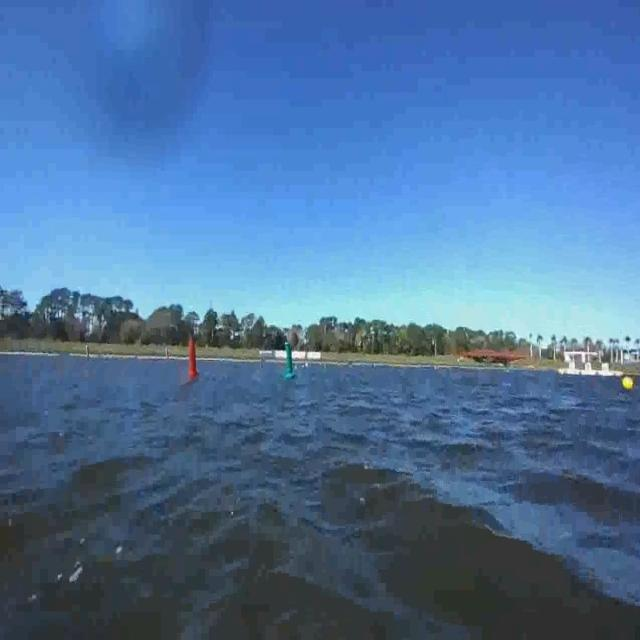green-column-buoy: (278, 332, 296, 382)
red-column-buoy: (184, 318, 202, 388)
